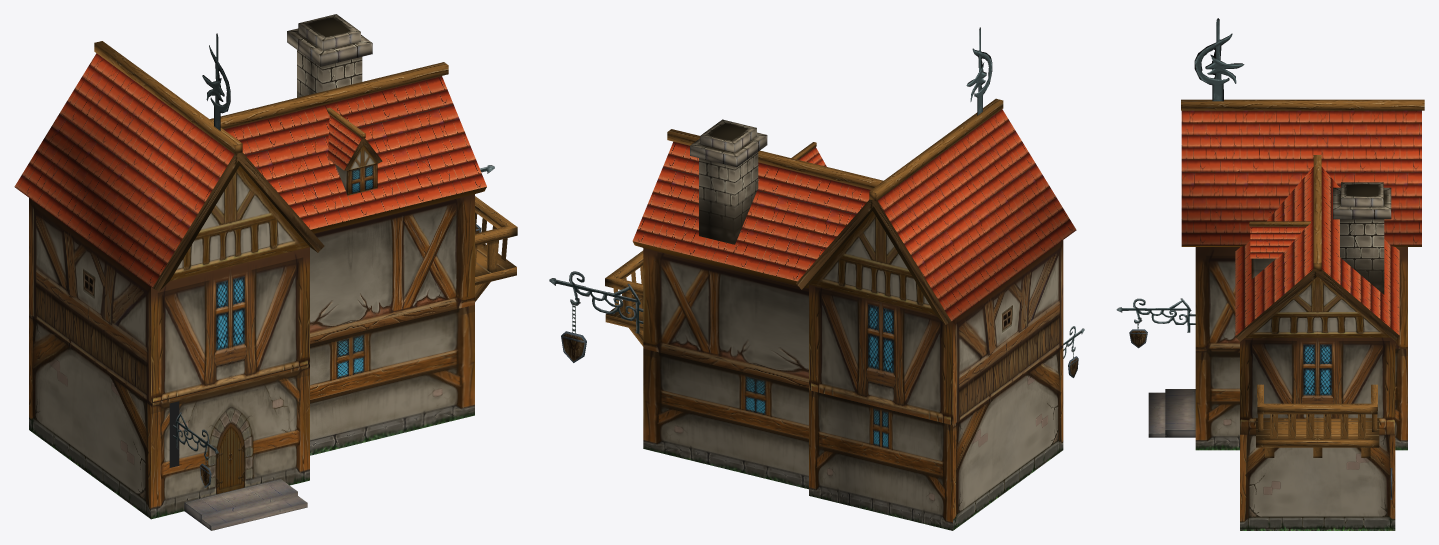
The model's file is bar.obj.
3 renders of one model, left to right at view 1: azimuth 30°, elevation 25°; view 2: azimuth 150°, elevation 25°; view 3: azimuth 270°, elevation 25°, orthographic. The views are drawn at different scales.
Parts seen in each view (by area): view 1: cadnav_com; view 2: cadnav_com; view 3: cadnav_com.
Part boxes in pixels (x1,y1,x2,y2): cadnav_com: (14,14,517,530); cadnav_com: (549,27,1084,530); cadnav_com: (1116,18,1424,530).
Bounding box in the file's own units: 525 × 497 × 348.
4 materials, 4 textured.
